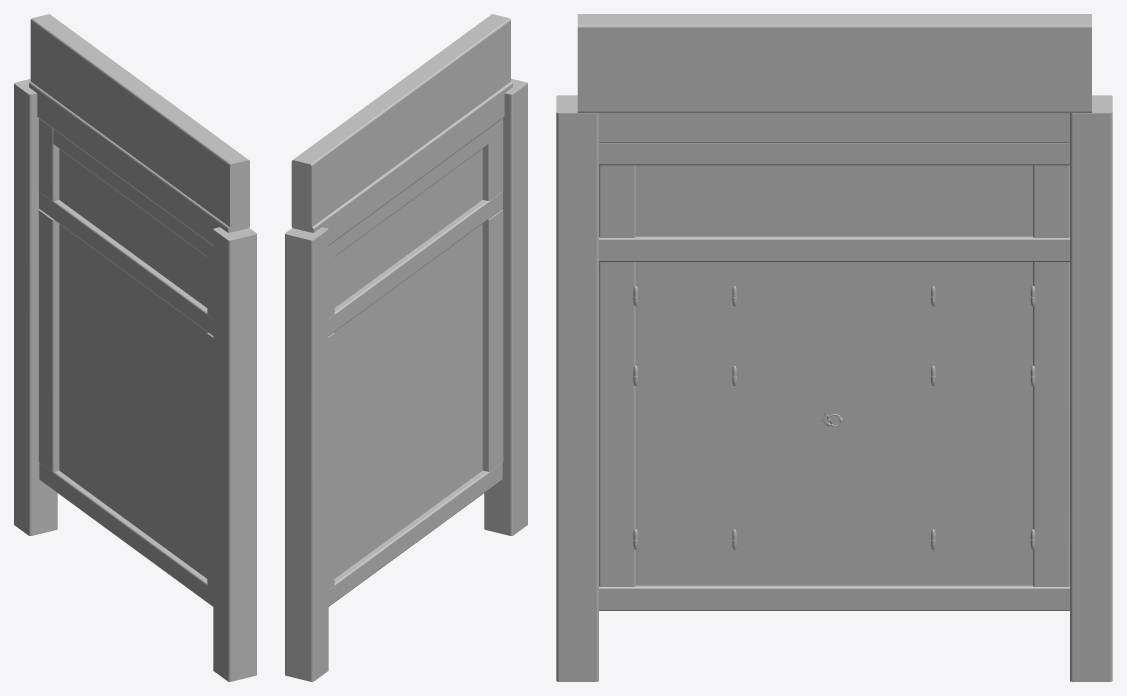
Rendered from SM_Building_Wall_31.FBX.
3 renders of one model, left to right at view 1: azimuth 30°, elevation 25°; view 2: azimuth 150°, elevation 25°; view 3: azimuth 270°, elevation 25°, orthographic. The views are drawn at different scales.
Visible parts, largest first — view 1: SM_Building_Wall_31; view 2: SM_Building_Wall_31; view 3: SM_Building_Wall_31.
Part boxes in pixels (x1=…): SM_Building_Wall_31: x1=14, y1=14, x2=256, y2=681; SM_Building_Wall_31: x1=285, y1=14, x2=527, y2=681; SM_Building_Wall_31: x1=556, y1=14, x2=1112, y2=681.
Bounding box in the file's own units: 53.06 × 886 × 680.
